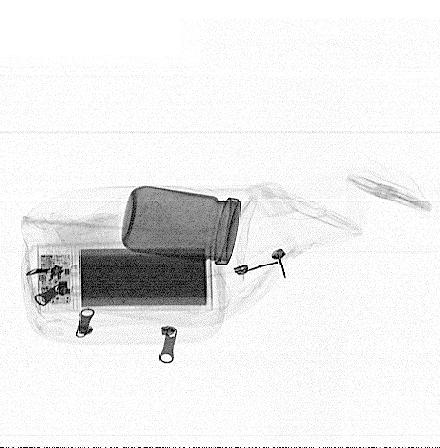Powerbank: (39, 239, 212, 314)
